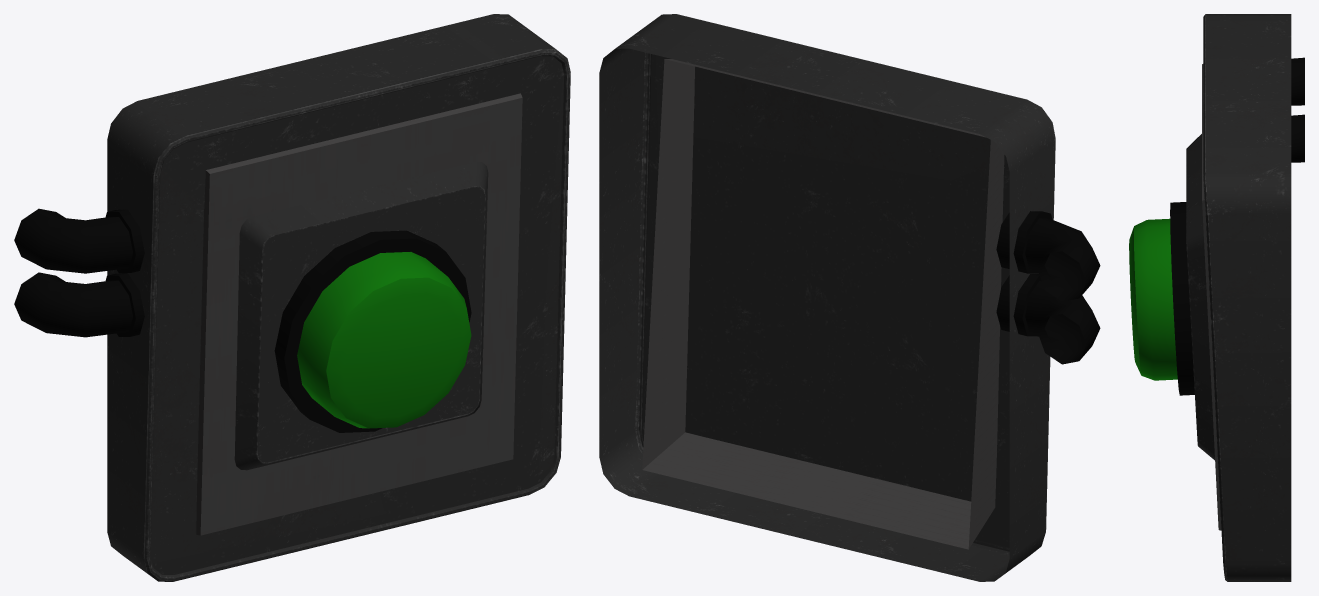
Rendered from button.obj.
The picture shows the model from 3 angles, left to right: view 1: azimuth 30°, elevation 25°; view 2: azimuth 150°, elevation 25°; view 3: azimuth 270°, elevation 25°; orthographic projection. The views are drawn at different scales.
Parts seen in each view (by area): view 1: Base, Button, Pipes; view 2: Base, Pipes; view 3: Base, Button, Pipes.
Part boxes in pixels (left/top/right/bottom): Base: left=107, top=14, right=570, bottom=581; Button: left=297, top=252, right=471, bottom=428; Pipes: left=14, top=208, right=144, bottom=337; Base: left=599, top=14, right=1055, bottom=581; Pipes: left=996, top=211, right=1100, bottom=364; Base: left=1170, top=14, right=1291, bottom=581; Button: left=1129, top=218, right=1177, bottom=380; Pipes: left=1291, top=57, right=1304, bottom=162.
Bounding box in the file's own units: 0.3034 × 0.2626 × 0.1029.
1 material, 1 textured.
